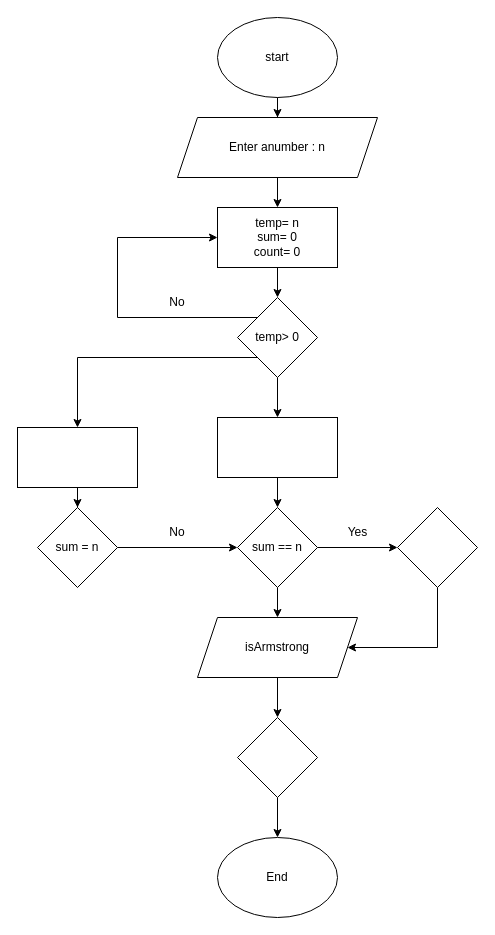
Some shapes in this 495 by 935 pixel diagram are drawn without their labels. Here are the shapes that lost their labels. From the top down, the box of each, then its label:
(16, 426, 138, 488): digit = t1 temp = temp/1
(216, 416, 338, 478): digit = temp % 10; sum = sum + pow(digit, count); temp = temp / 10
(396, 506, 478, 588): PAss Not Pass
(236, 716, 318, 798): Pass
